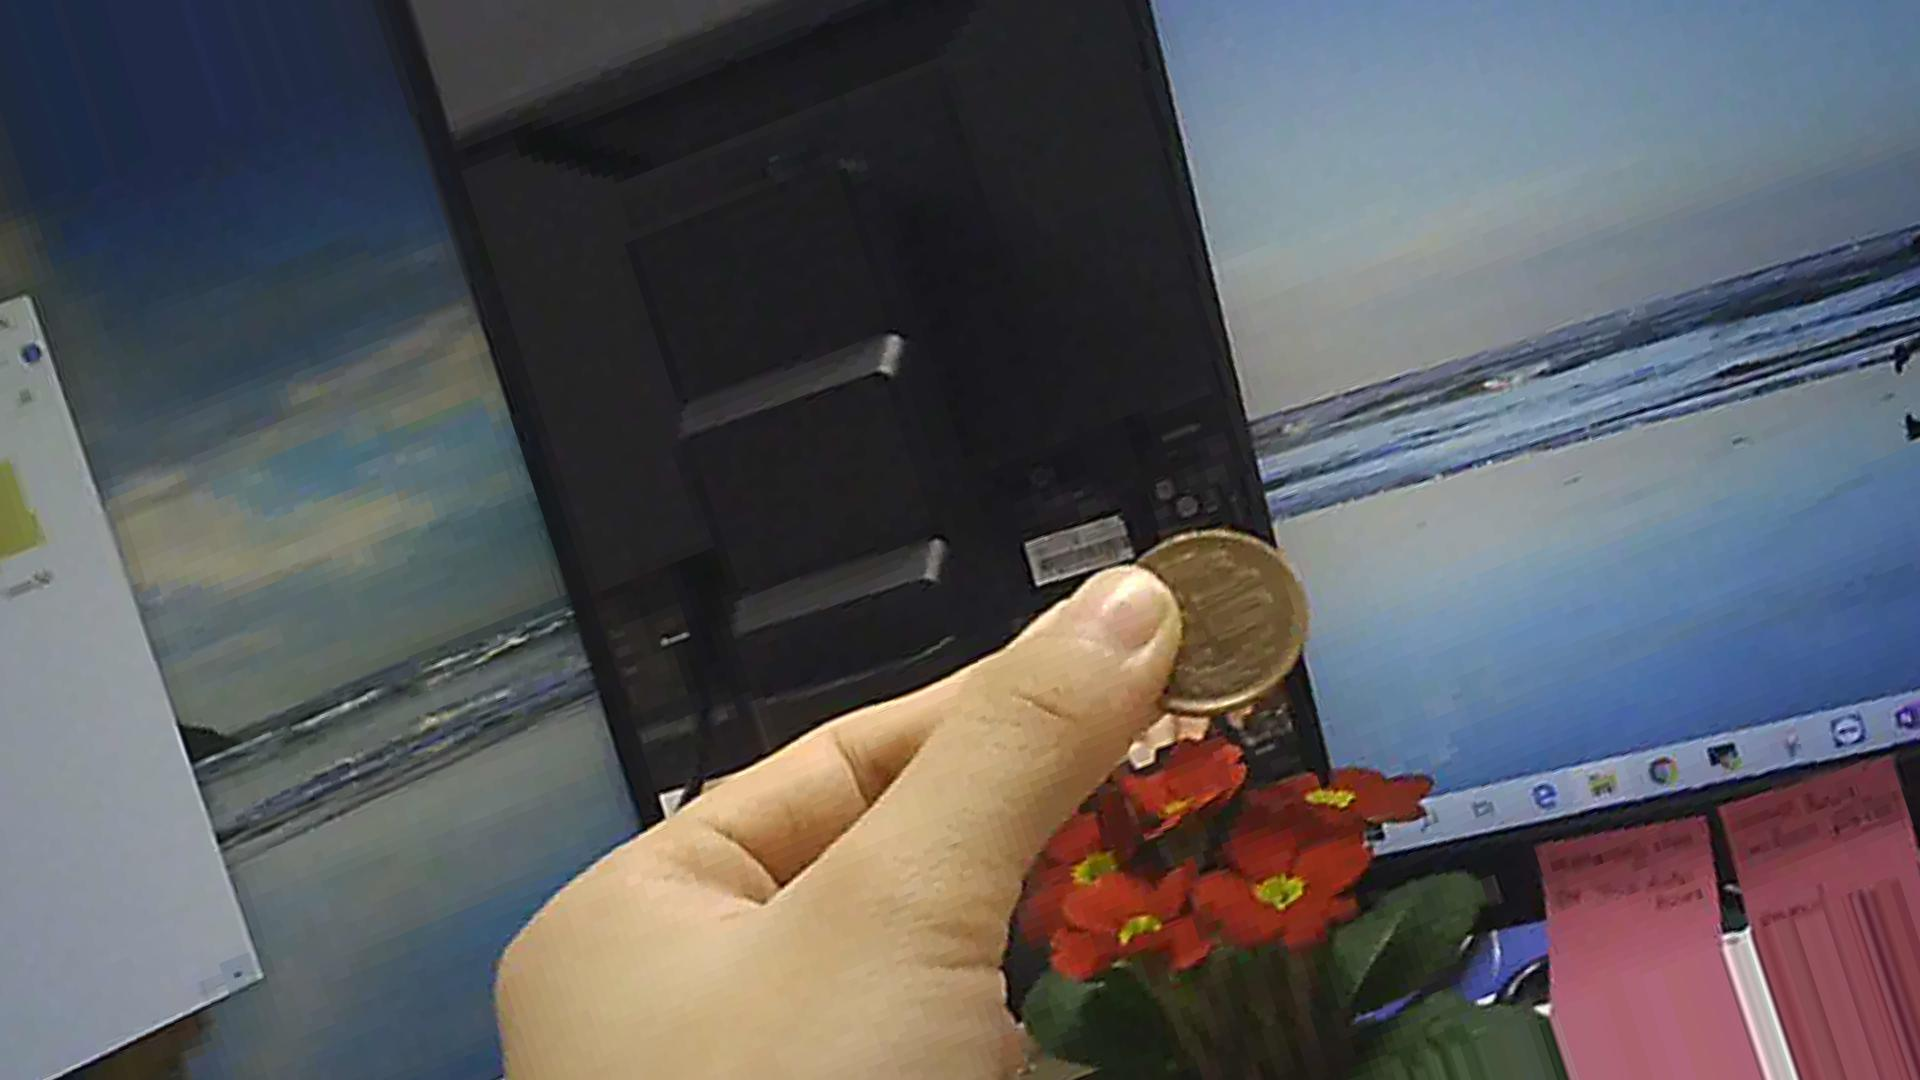10 Yen: (1102, 520, 1309, 729)
